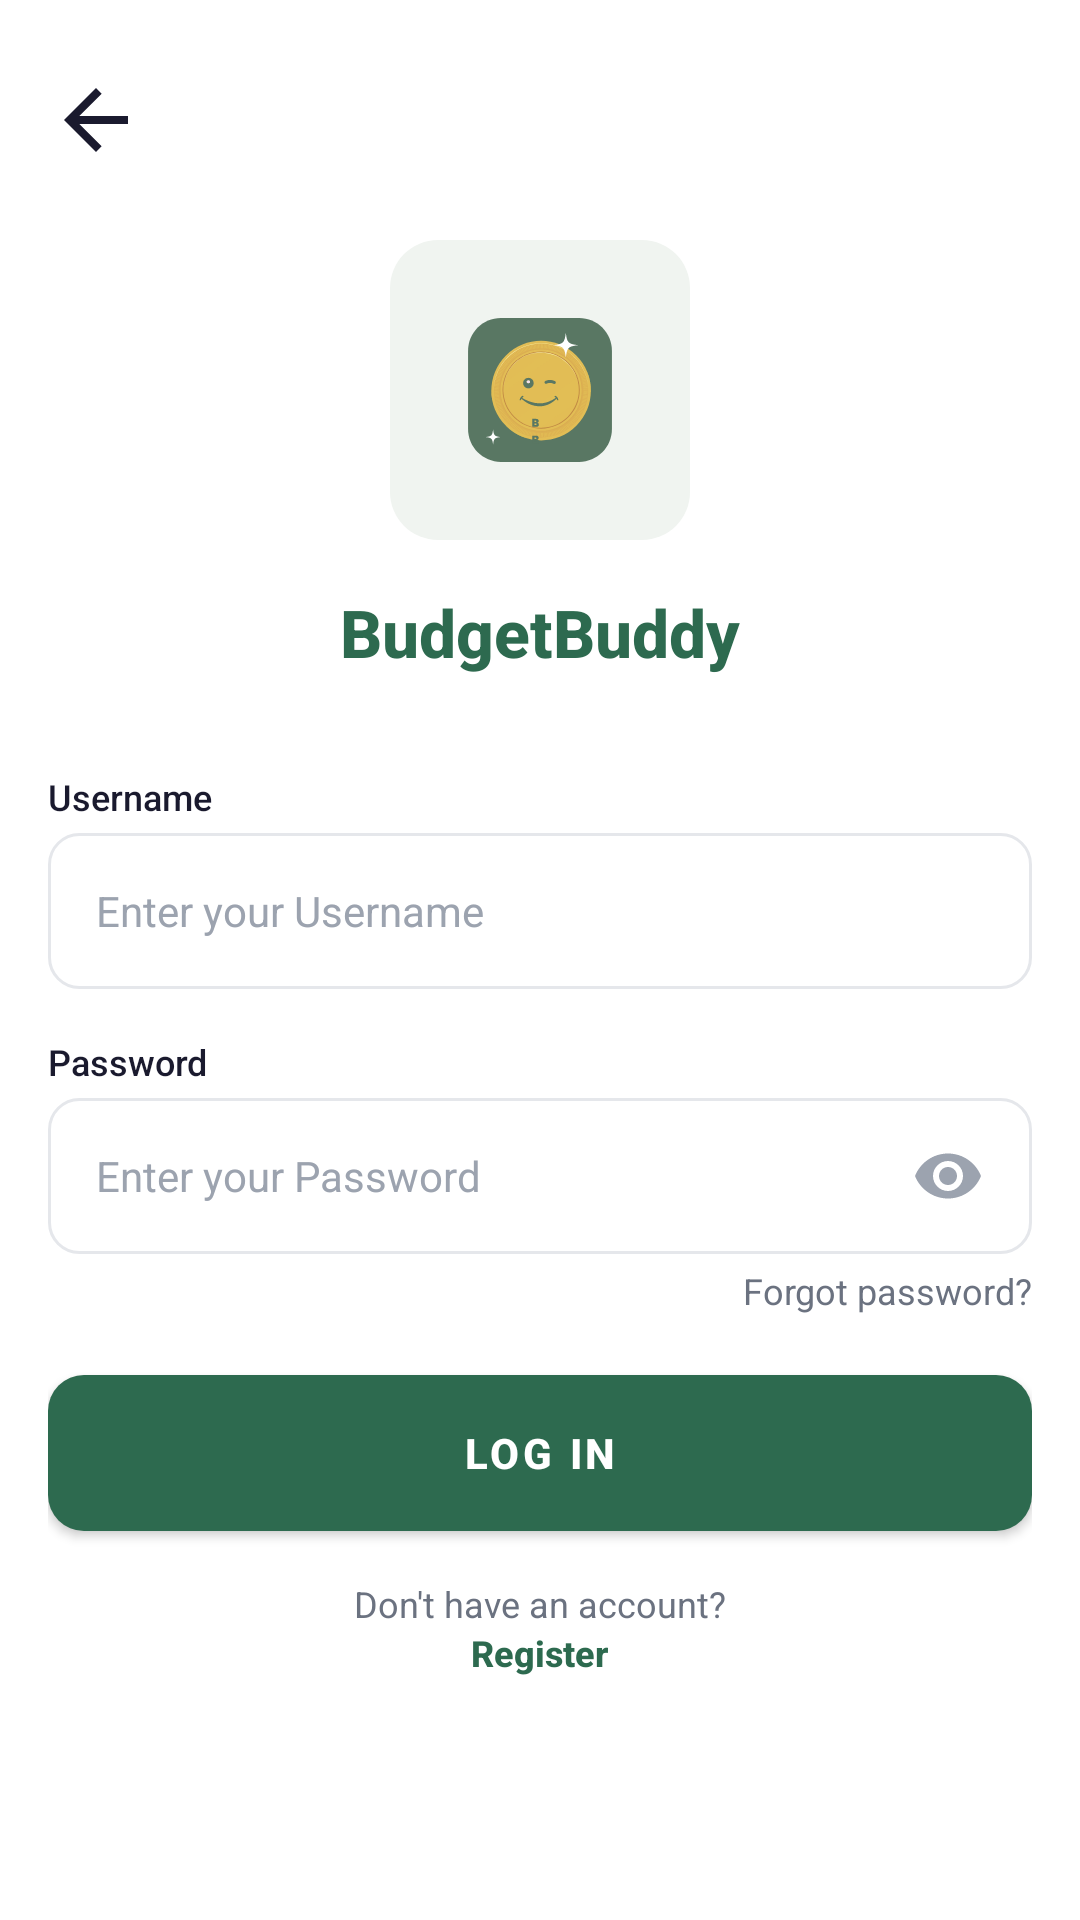

Named icons in this screenshot (1080x1920) and their bounding boxes, (x1, y1, x2, y2):
Back: (64, 88, 128, 152)
Toggle password: (915, 1153, 981, 1199)
